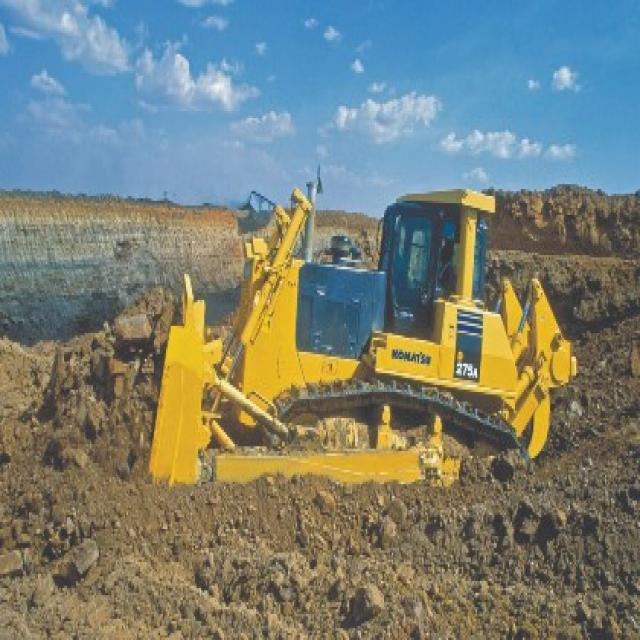buldozerpayloadergrader: (102, 180, 585, 495)
